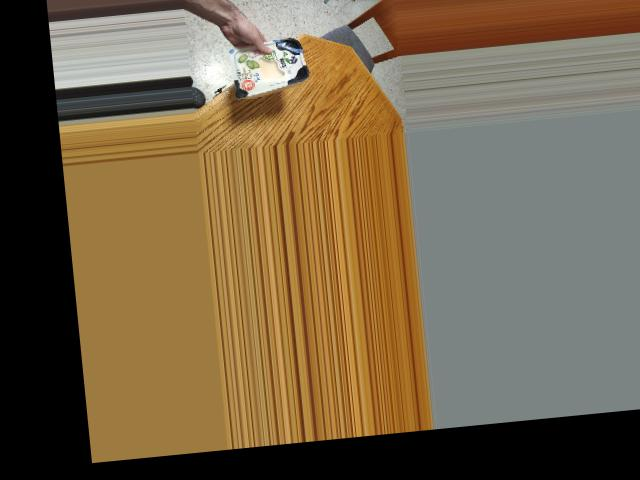cheese: (234, 39, 308, 89)
